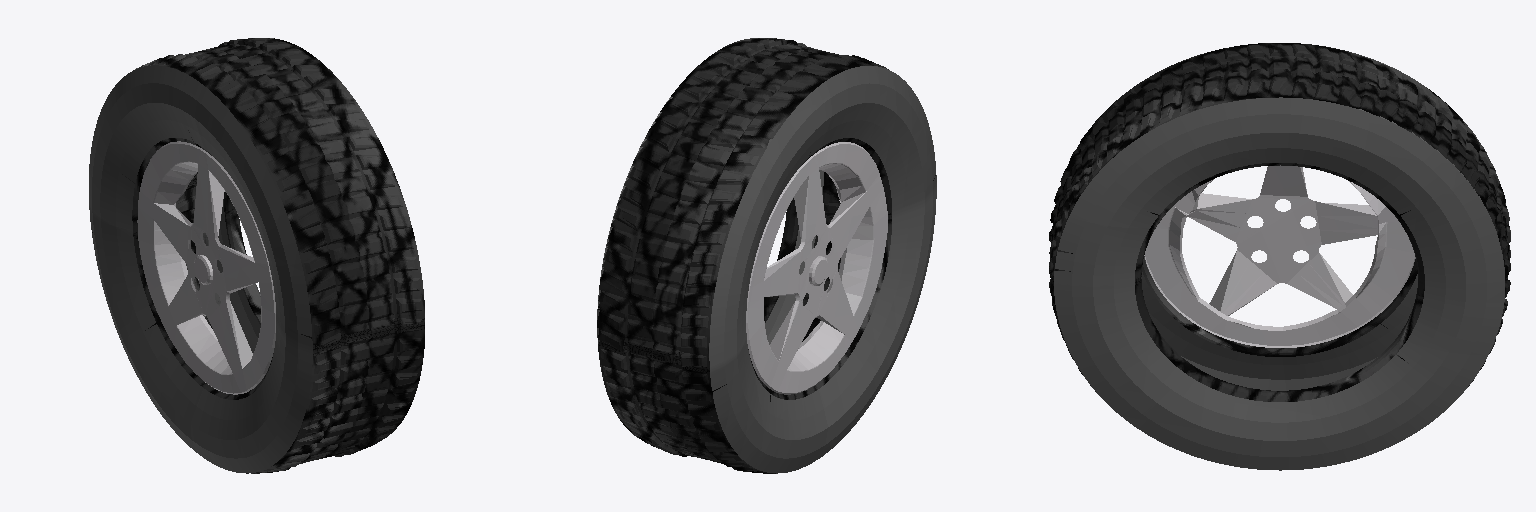
3 views of the same model, side by side, from view 1: azimuth 30°, elevation 25°; view 2: azimuth 150°, elevation 25°; view 3: azimuth 270°, elevation 25° (orthographic).
Parts seen in each view (by area): view 1: 1.011; view 2: 1.011; view 3: 1.011.
Boxes of the visible parts, x1,y1,x2,y2 form: 1.011: [89, 38, 424, 473]; 1.011: [597, 38, 936, 473]; 1.011: [1049, 43, 1510, 470].
Bounding box in the file's own units: 20.98 × 60.23 × 66.12.
Materials: 2 (1 with a texture image).